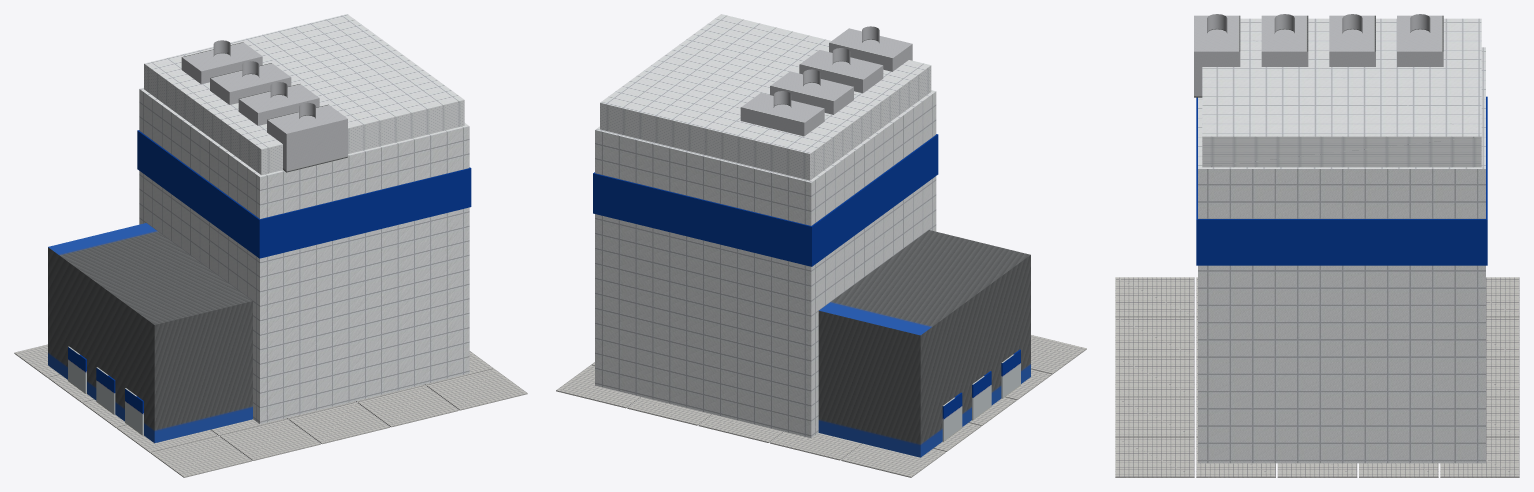
3 renders of one model, left to right at view 1: azimuth 30°, elevation 25°; view 2: azimuth 150°, elevation 25°; view 3: azimuth 270°, elevation 25°, orthographic. The views are drawn at different scales.
Parts seen in each view (by area): view 1: 28185_B30_Samsung_Biologics_Mega_Plant; view 2: 28185_B30_Samsung_Biologics_Mega_Plant; view 3: 28185_B30_Samsung_Biologics_Mega_Plant.
Part boxes in pixels (bbox=[...]): 28185_B30_Samsung_Biologics_Mega_Plant: bbox=[14, 14, 527, 477]; 28185_B30_Samsung_Biologics_Mega_Plant: bbox=[556, 14, 1086, 477]; 28185_B30_Samsung_Biologics_Mega_Plant: bbox=[1115, 14, 1519, 477].
Size of the model in its own units: 55.8 by 46.5 by 47.8.
Materials: 1 (1 with a texture image).
